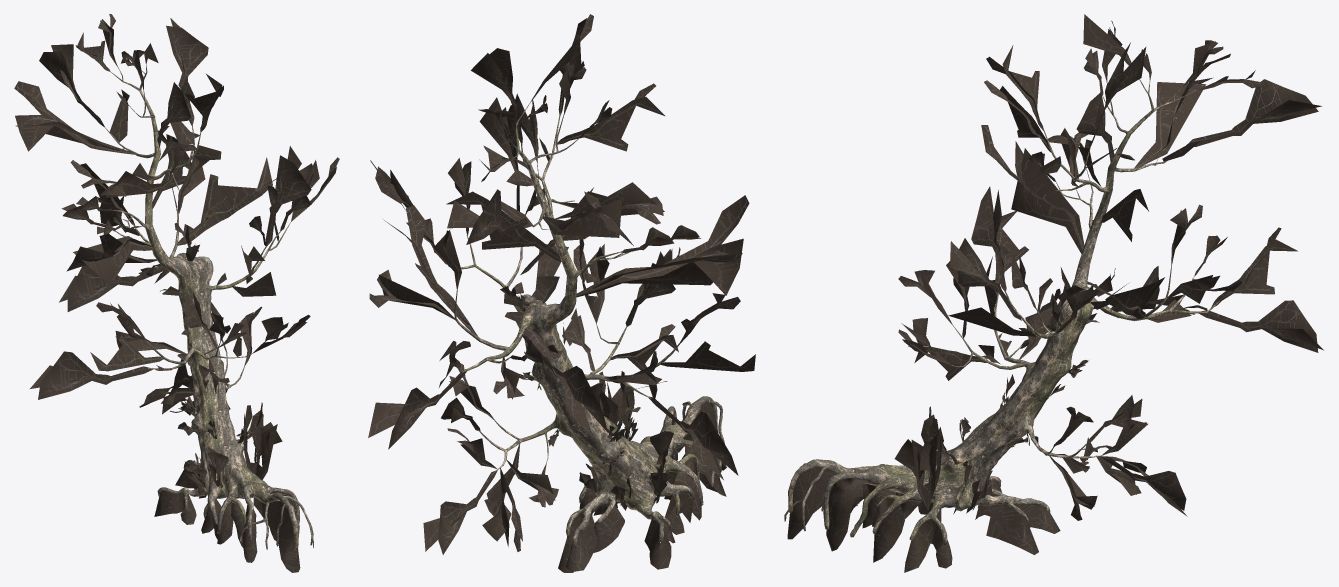
Rendered from SM_Tree_River.fbx.
3 views of the same model, side by side, from view 1: azimuth 30°, elevation 25°; view 2: azimuth 150°, elevation 25°; view 3: azimuth 270°, elevation 25° (orthographic). The views are drawn at different scales.
Parts seen in each view (by area): view 1: SM_Tree_River; view 2: SM_Tree_River; view 3: SM_Tree_River.
Part boxes in pixels (x1,y1,x2,y2): SM_Tree_River: (14,14,339,572); SM_Tree_River: (368,14,755,572); SM_Tree_River: (784,14,1323,572).
Bounding box in the file's own units: 2079 × 2823 × 3018.
Materials: 2 (2 with a texture image).
